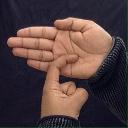hand: (6, 16, 112, 80), (41, 53, 88, 119)
